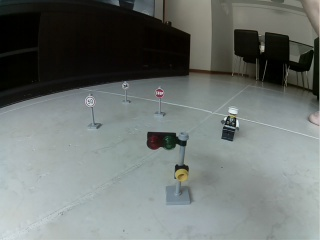Person: (219, 106, 241, 144)
Red Traffic Light: (146, 132, 192, 206)
Speed Limit 30: (121, 82, 129, 90)
Speed Limit 50: (85, 96, 96, 107)
Stop Sign: (155, 88, 164, 98)
